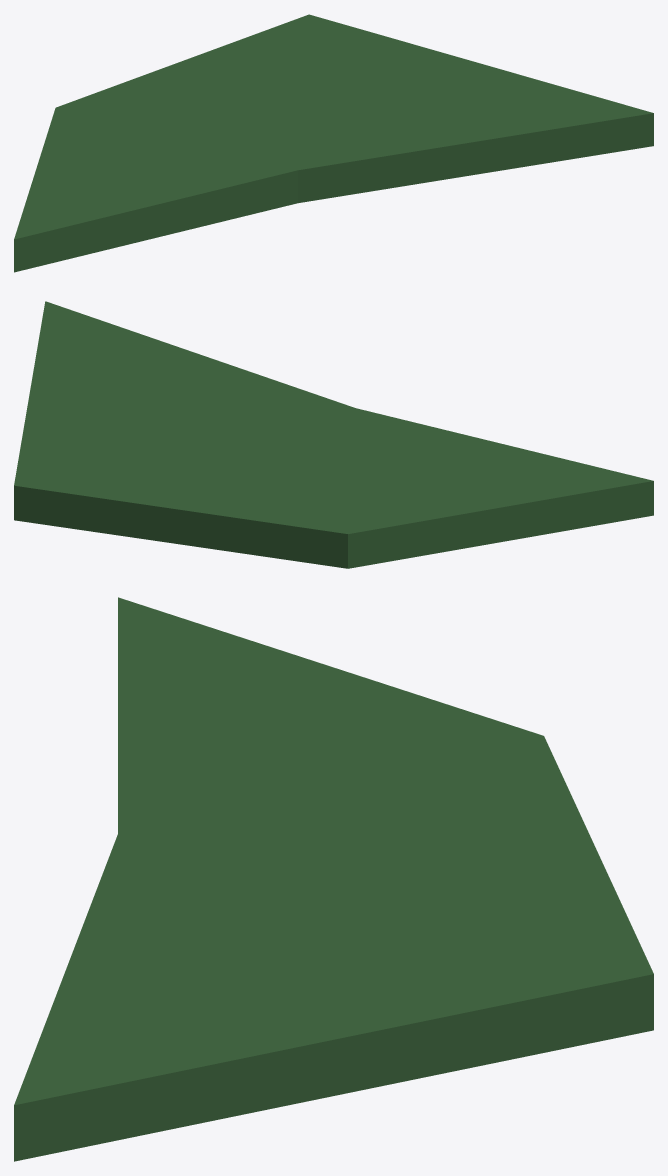
The model's file is x_proval_00_171_1_rmstrd.fbx.
3 views of the same model, one above another, from view 1: azimuth 30°, elevation 25°; view 2: azimuth 150°, elevation 25°; view 3: azimuth 270°, elevation 25° (orthographic). The views are drawn at different scales.
Parts seen in each view (by area): view 1: x_proval_00_171_1_rmstrd1; view 2: x_proval_00_171_1_rmstrd1; view 3: x_proval_00_171_1_rmstrd1.
Part boxes in pixels (x1=…): x_proval_00_171_1_rmstrd1: x1=14, y1=14, x2=653, y2=272; x_proval_00_171_1_rmstrd1: x1=14, y1=301, x2=653, y2=568; x_proval_00_171_1_rmstrd1: x1=14, y1=597, x2=653, y2=1161.
Size of the model in its own units: 3.87 by 0.2 by 2.06.
